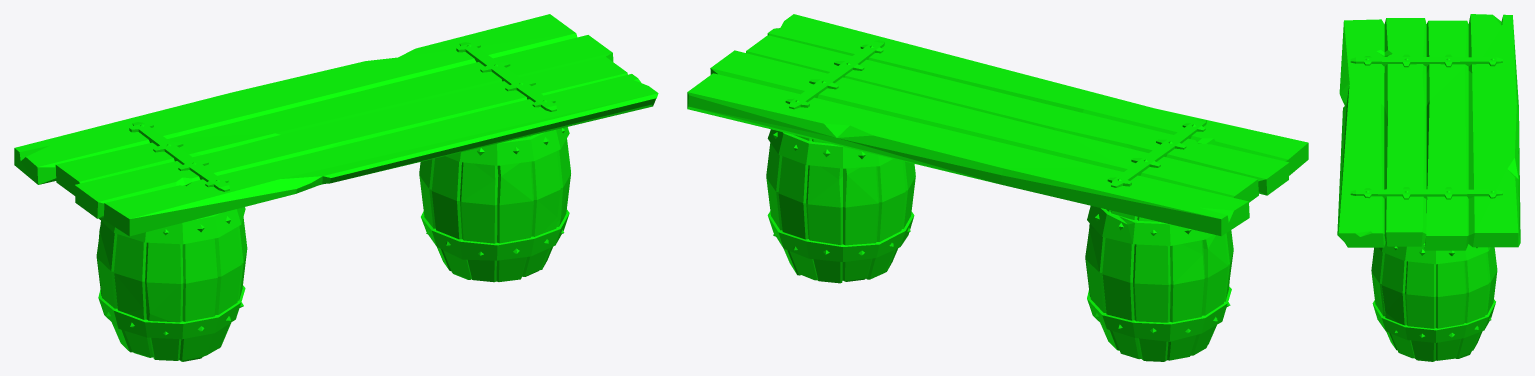
File: SM_Table_Barrel_C_Fantasy.fbx
The picture shows the model from 3 angles, left to right: view 1: azimuth 30°, elevation 25°; view 2: azimuth 150°, elevation 25°; view 3: azimuth 270°, elevation 25°; orthographic projection. The views are drawn at different scales.
Visible parts, largest first — view 1: table-barrel-c-fantasy; view 2: table-barrel-c-fantasy; view 3: table-barrel-c-fantasy.
Boxes of the visible parts, <box> form: table-barrel-c-fantasy: <box>14,14,658,361</box>; table-barrel-c-fantasy: <box>687,14,1308,361</box>; table-barrel-c-fantasy: <box>1337,14,1520,361</box>.
Bounding box in the file's own units: 2.53 × 0.8422 × 0.8823.
